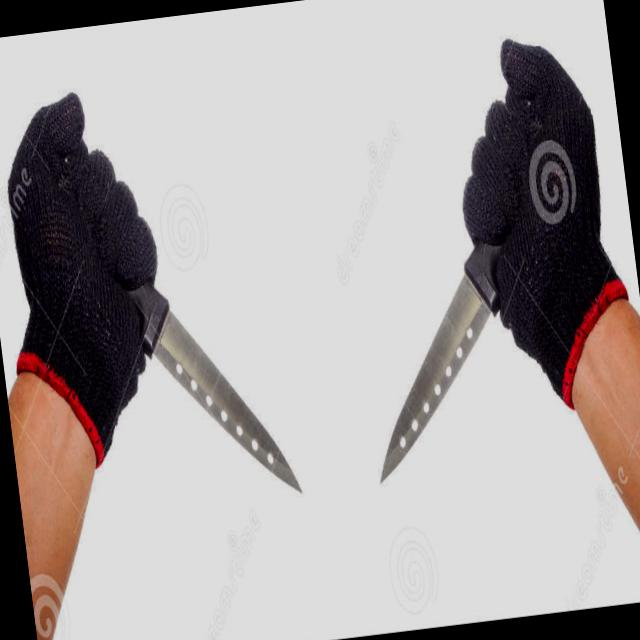knife: (326, 85, 570, 488), (64, 130, 307, 520)
